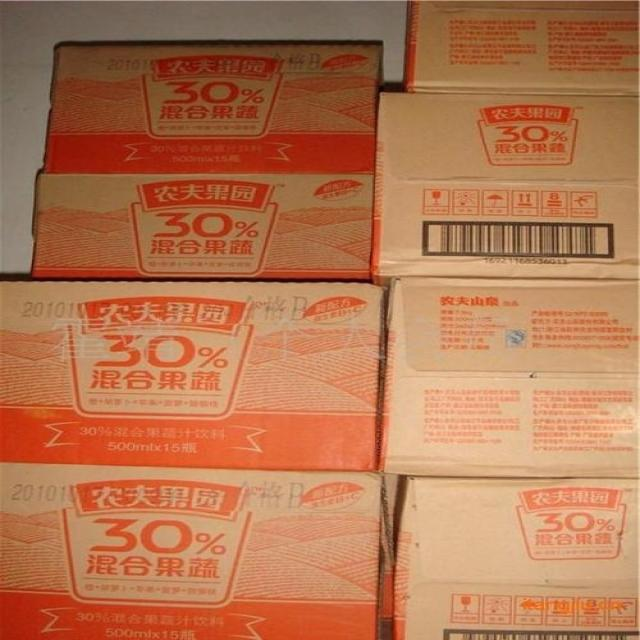box: (0, 281, 388, 471), (0, 468, 385, 639), (376, 281, 639, 478), (370, 92, 639, 282), (40, 43, 386, 176), (381, 478, 639, 638), (31, 170, 373, 280), (404, 0, 639, 97)
